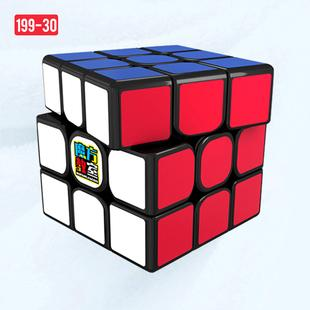cube: (22, 40, 278, 277)
